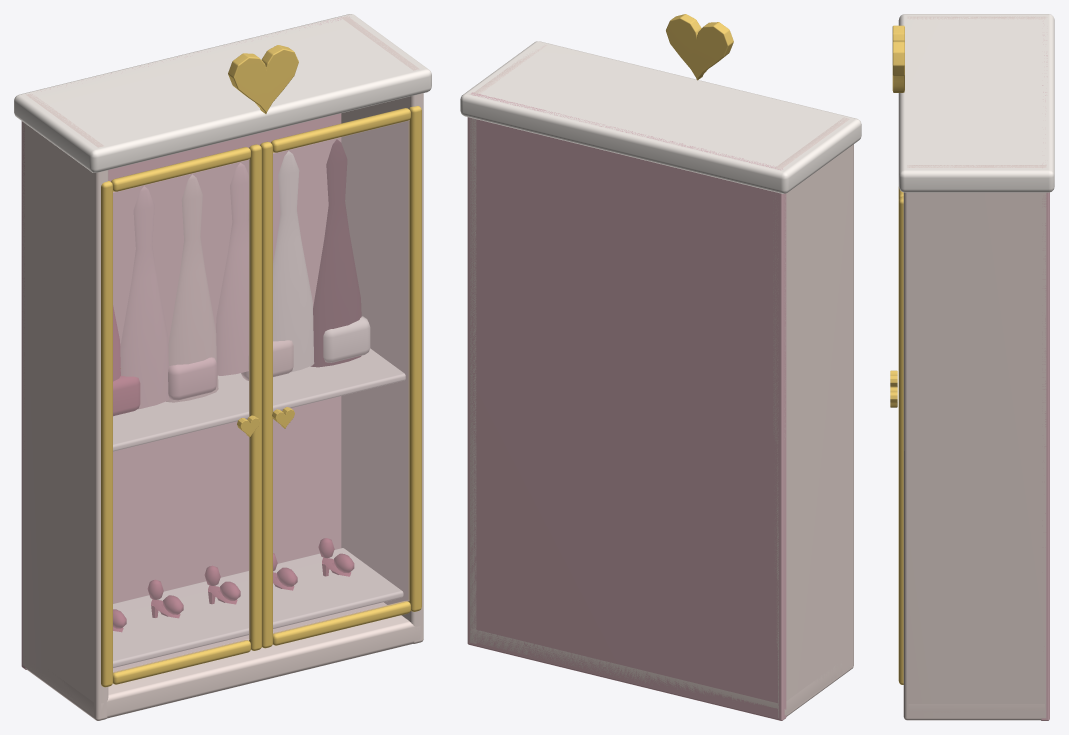
The model's file is wardrobe_glass_lit.glb.
3 renders of one model, left to right at view 1: azimuth 30°, elevation 25°; view 2: azimuth 150°, elevation 25°; view 3: azimuth 270°, elevation 25°, orthographic. The views are drawn at different scales.
Parts seen in each view (by area): view 1: wardrobe_glass_lit; view 2: wardrobe_glass_lit; view 3: wardrobe_glass_lit.
Boxes of the visible parts, x1,y1,x2,y2 form: wardrobe_glass_lit: (14, 14, 431, 720); wardrobe_glass_lit: (460, 14, 861, 720); wardrobe_glass_lit: (890, 14, 1054, 720).
Bounding box in the file's own units: 1.56 × 2.76 × 0.675.
